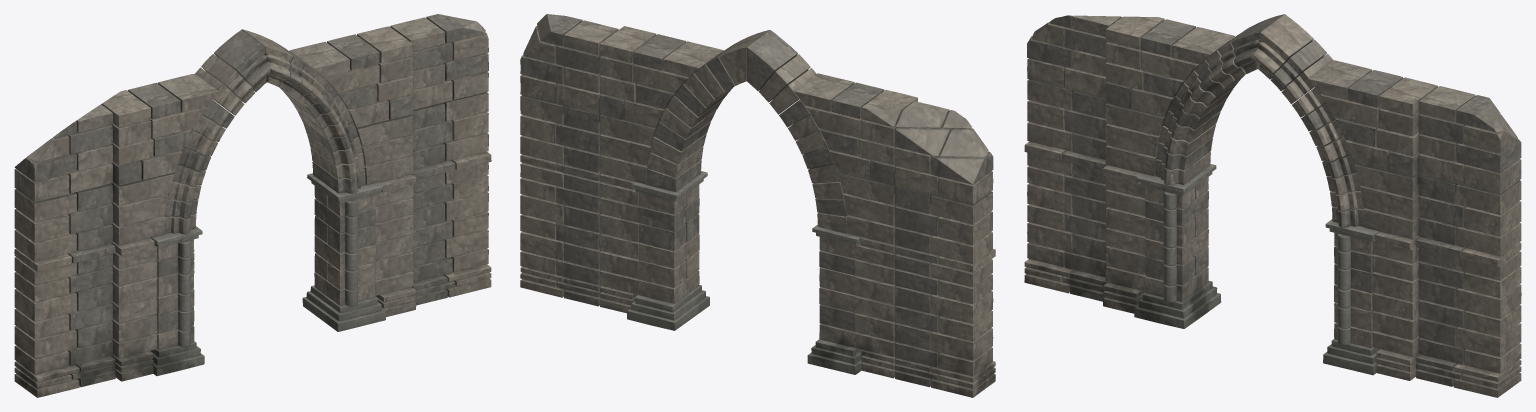
Rendered from worn-pier-review.glb.
3 views of the same model, side by side, from view 1: azimuth 30°, elevation 25°; view 2: azimuth 150°, elevation 25°; view 3: azimuth 330°, elevation 25° (orthographic). The views are drawn at different scales.
Visible parts, largest first — view 1: WornPier_Review.001; view 2: WornPier_Review.001; view 3: WornPier_Review.001.
Part boxes in pixels (left/top/right/bottom): WornPier_Review.001: left=14, top=14, right=491, bottom=397; WornPier_Review.001: left=520, top=14, right=995, bottom=397; WornPier_Review.001: left=1024, top=14, right=1521, bottom=397.
Bounding box in the file's own units: 9.58 × 5.99 × 1.29.
1 material, 1 textured.
